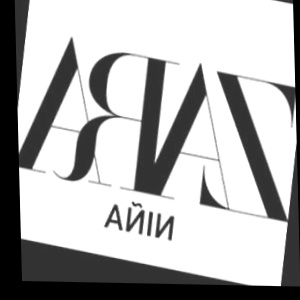zara: (290, 0, 295, 62)
